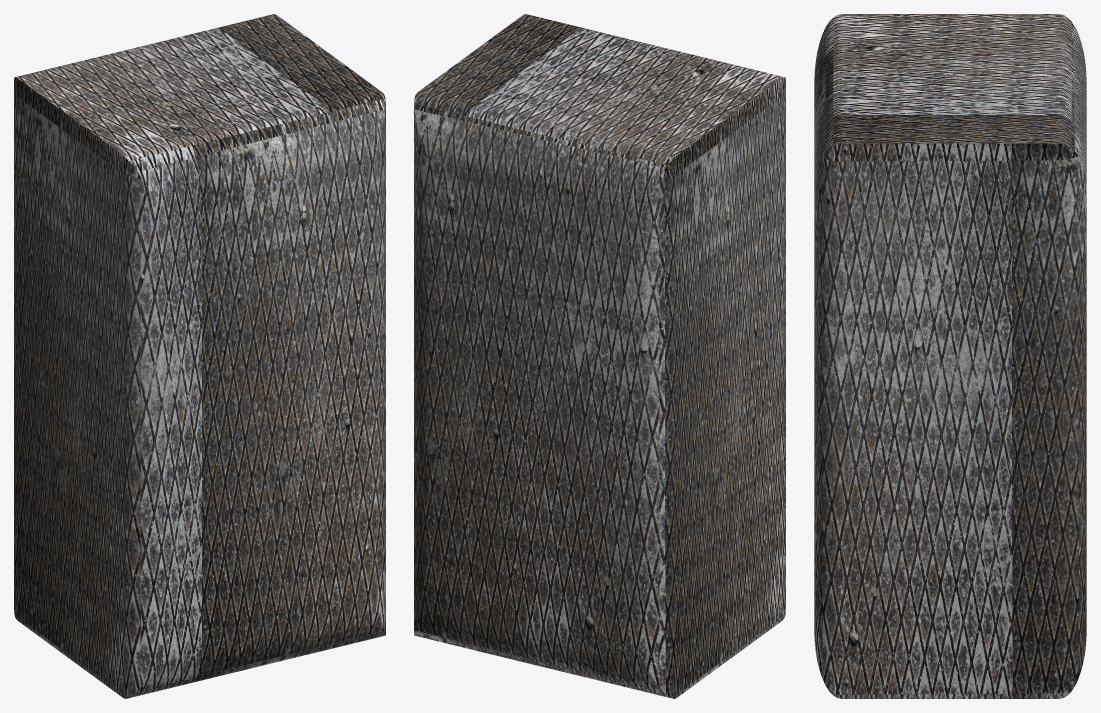
The model's file is tile1.obj.
3 views of the same model, side by side, from view 1: azimuth 30°, elevation 25°; view 2: azimuth 150°, elevation 25°; view 3: azimuth 270°, elevation 25° (orthographic). The views are drawn at different scales.
Visible parts, largest first — view 1: Incredible_Jofo(1).002; view 2: Incredible_Jofo(1).002; view 3: Incredible_Jofo(1).002.
Boxes of the visible parts, x1,y1,x2,y2 form: Incredible_Jofo(1).002: (14,14,385,698); Incredible_Jofo(1).002: (414,14,785,698); Incredible_Jofo(1).002: (814,14,1086,698).
Bounding box in the file's own units: 0.09 × 0.18 × 0.08.
